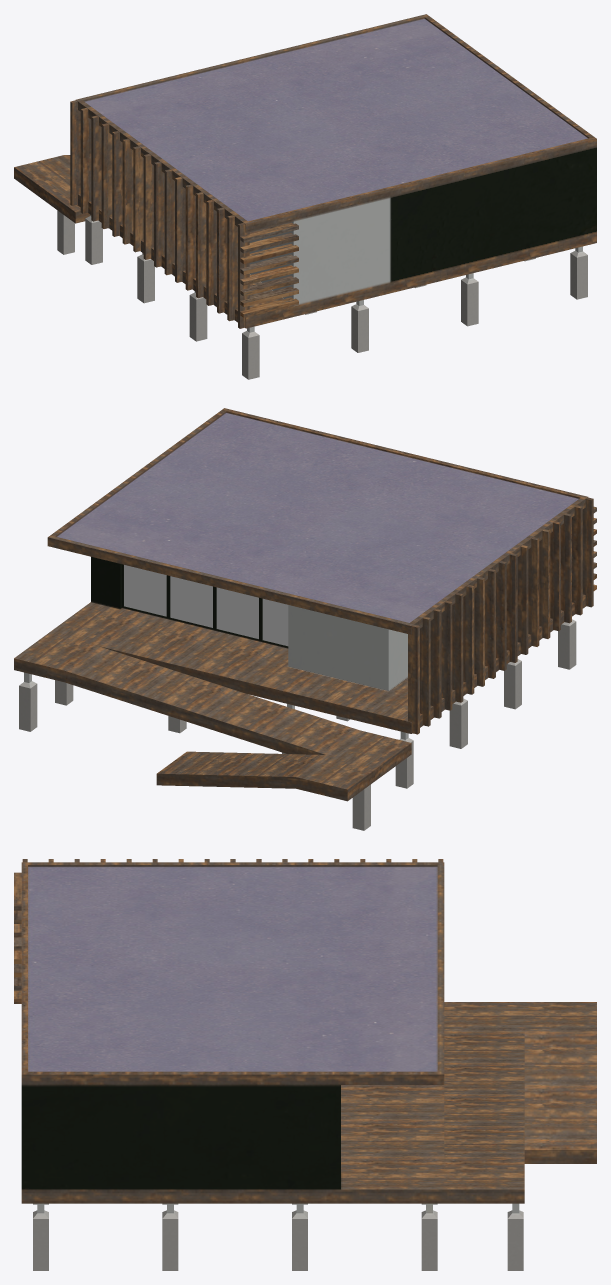
The model's file is Budka.fbx.
3 views of the same model, one above another, from view 1: azimuth 30°, elevation 25°; view 2: azimuth 150°, elevation 25°; view 3: azimuth 270°, elevation 25° (orthographic). The views are drawn at different scales.
Parts seen in each view (by area): view 1: Budka_Zaklad, Budka_Prkna_Svisle, Budka_Zakladove_Sloupky_001, Budka_Prkna_Vodorovne, Budka_Zakladove_Sloupky_002; view 2: Budka_Zaklad, Budka_Prkna_Svisle, Budka_Zakladove_Sloupky_001, Budka_Zakladove_Sloupky_002; view 3: Budka_Zaklad, Budka_Zakladove_Sloupky_001, Budka_Zakladove_Sloupky_002, Budka_Prkna_Vodorovne.
Part boxes in pixels (x1,y1,x2,y2): Budka_Zaklad: (14, 14, 596, 328); Budka_Prkna_Svisle: (70, 100, 249, 328); Budka_Zakladove_Sloupky_001: (85, 215, 587, 379); Budka_Prkna_Vodorovne: (240, 222, 298, 317); Budka_Zakladove_Sloupky_002: (57, 210, 74, 254); Budka_Zaklad: (14, 408, 587, 801); Budka_Prkna_Svisle: (408, 497, 593, 734); Budka_Zakladove_Sloupky_001: (55, 619, 576, 788); Budka_Zakladove_Sloupky_002: (19, 672, 370, 830); Budka_Zaklad: (21, 862, 596, 1203); Budka_Zakladove_Sloupky_001: (33, 1203, 437, 1270); Budka_Zakladove_Sloupky_002: (507, 1203, 523, 1270); Budka_Prkna_Vodorovne: (14, 872, 21, 1003).
Size of the model in its own units: 1326 by 630 by 1514.
